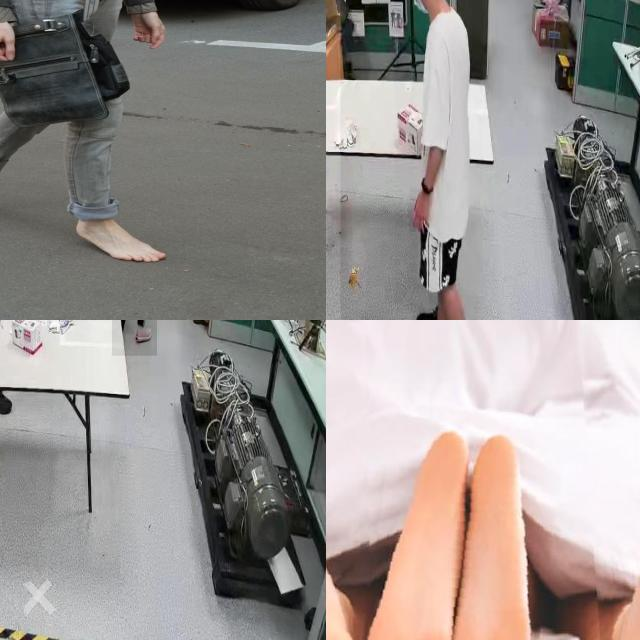Barefoots: (363, 415, 472, 640), (452, 434, 535, 640), (76, 219, 166, 262)
hand_noglove: (410, 188, 430, 233)
person: (394, 0, 483, 320)
shoes: (415, 302, 452, 320), (132, 320, 153, 342), (0, 386, 13, 415)
